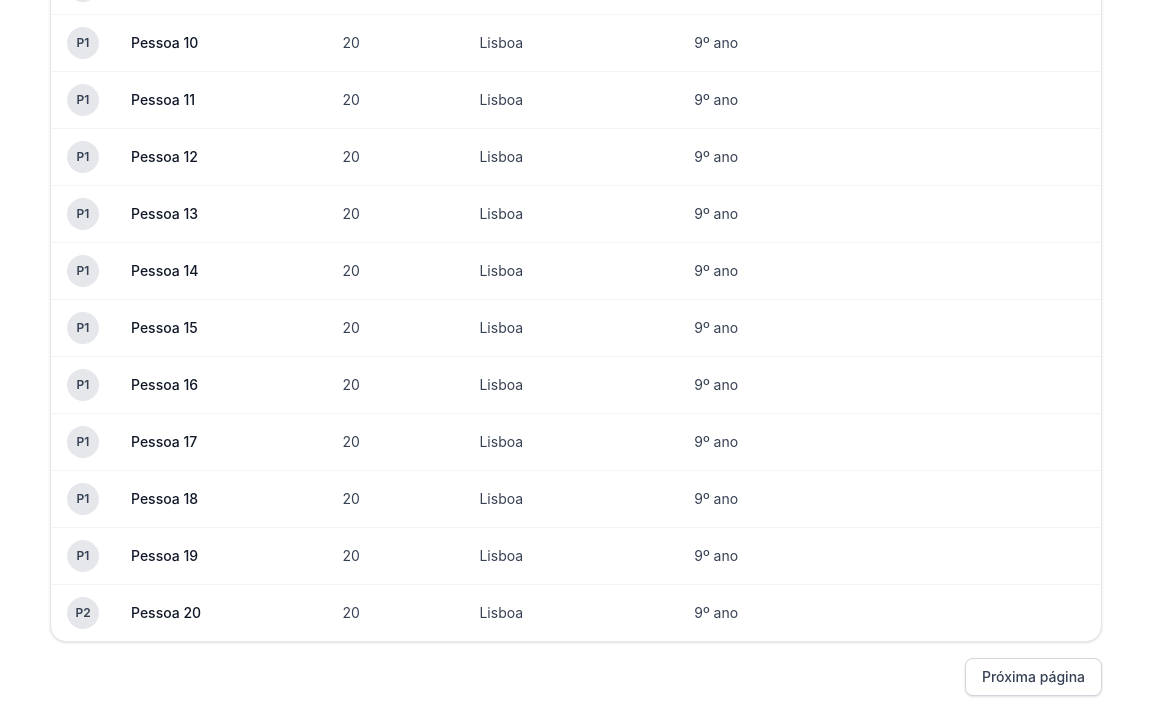
Test: BackofficePage › AC35: shows at most 20 rows per page, and a control to load the next page of results
(page scrolled)
Click the button "Próxima página" at x=1034, y=677, box [965, 658, 1102, 696]
(page scrolled)
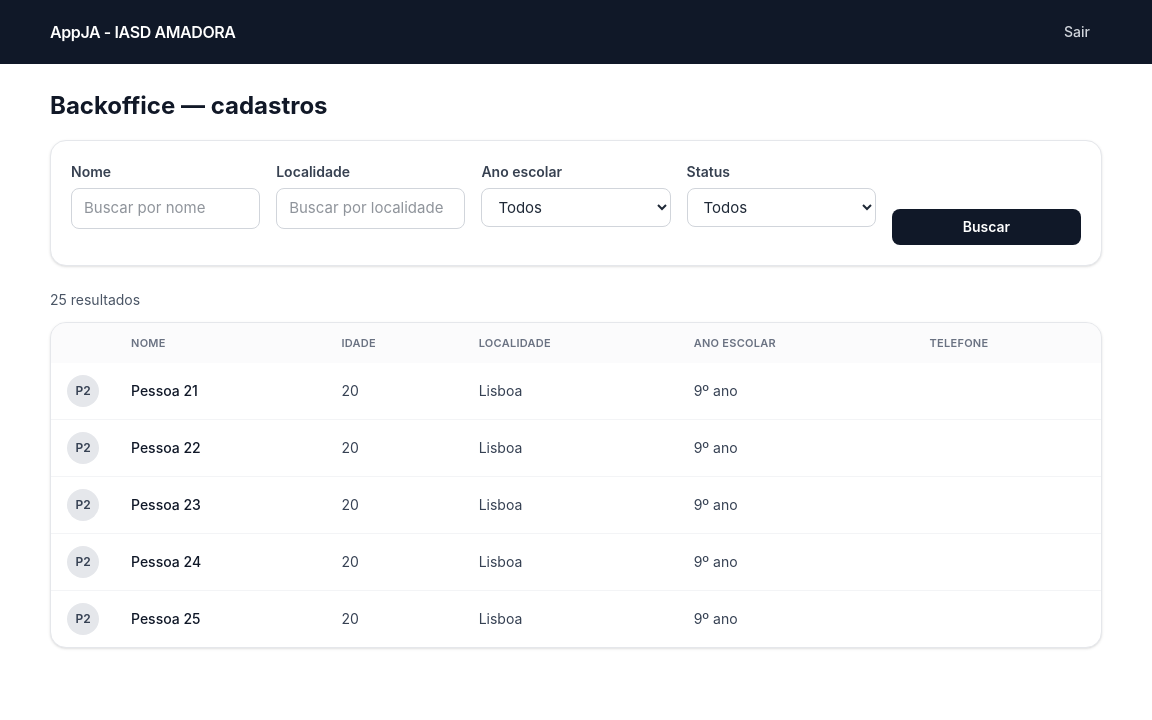
Result: the link "Pessoa 21" is shown at [131, 382, 198, 399]
Result: the number of links "Pessoa 21" is 5 at [131, 382, 198, 399]; [131, 439, 201, 456]; [131, 496, 201, 513]; [131, 553, 201, 570]; [131, 610, 200, 627]
